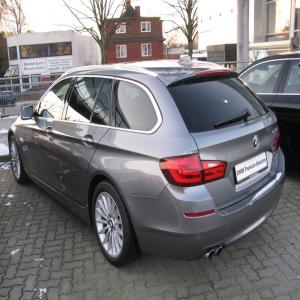Vehicle-registration-plate: (236, 151, 268, 182)
